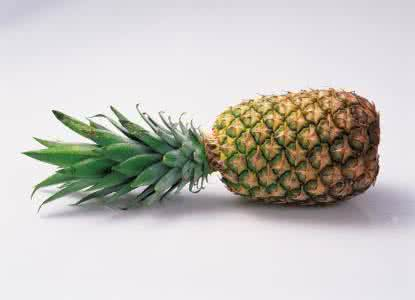pineapple: (29, 84, 392, 220)
